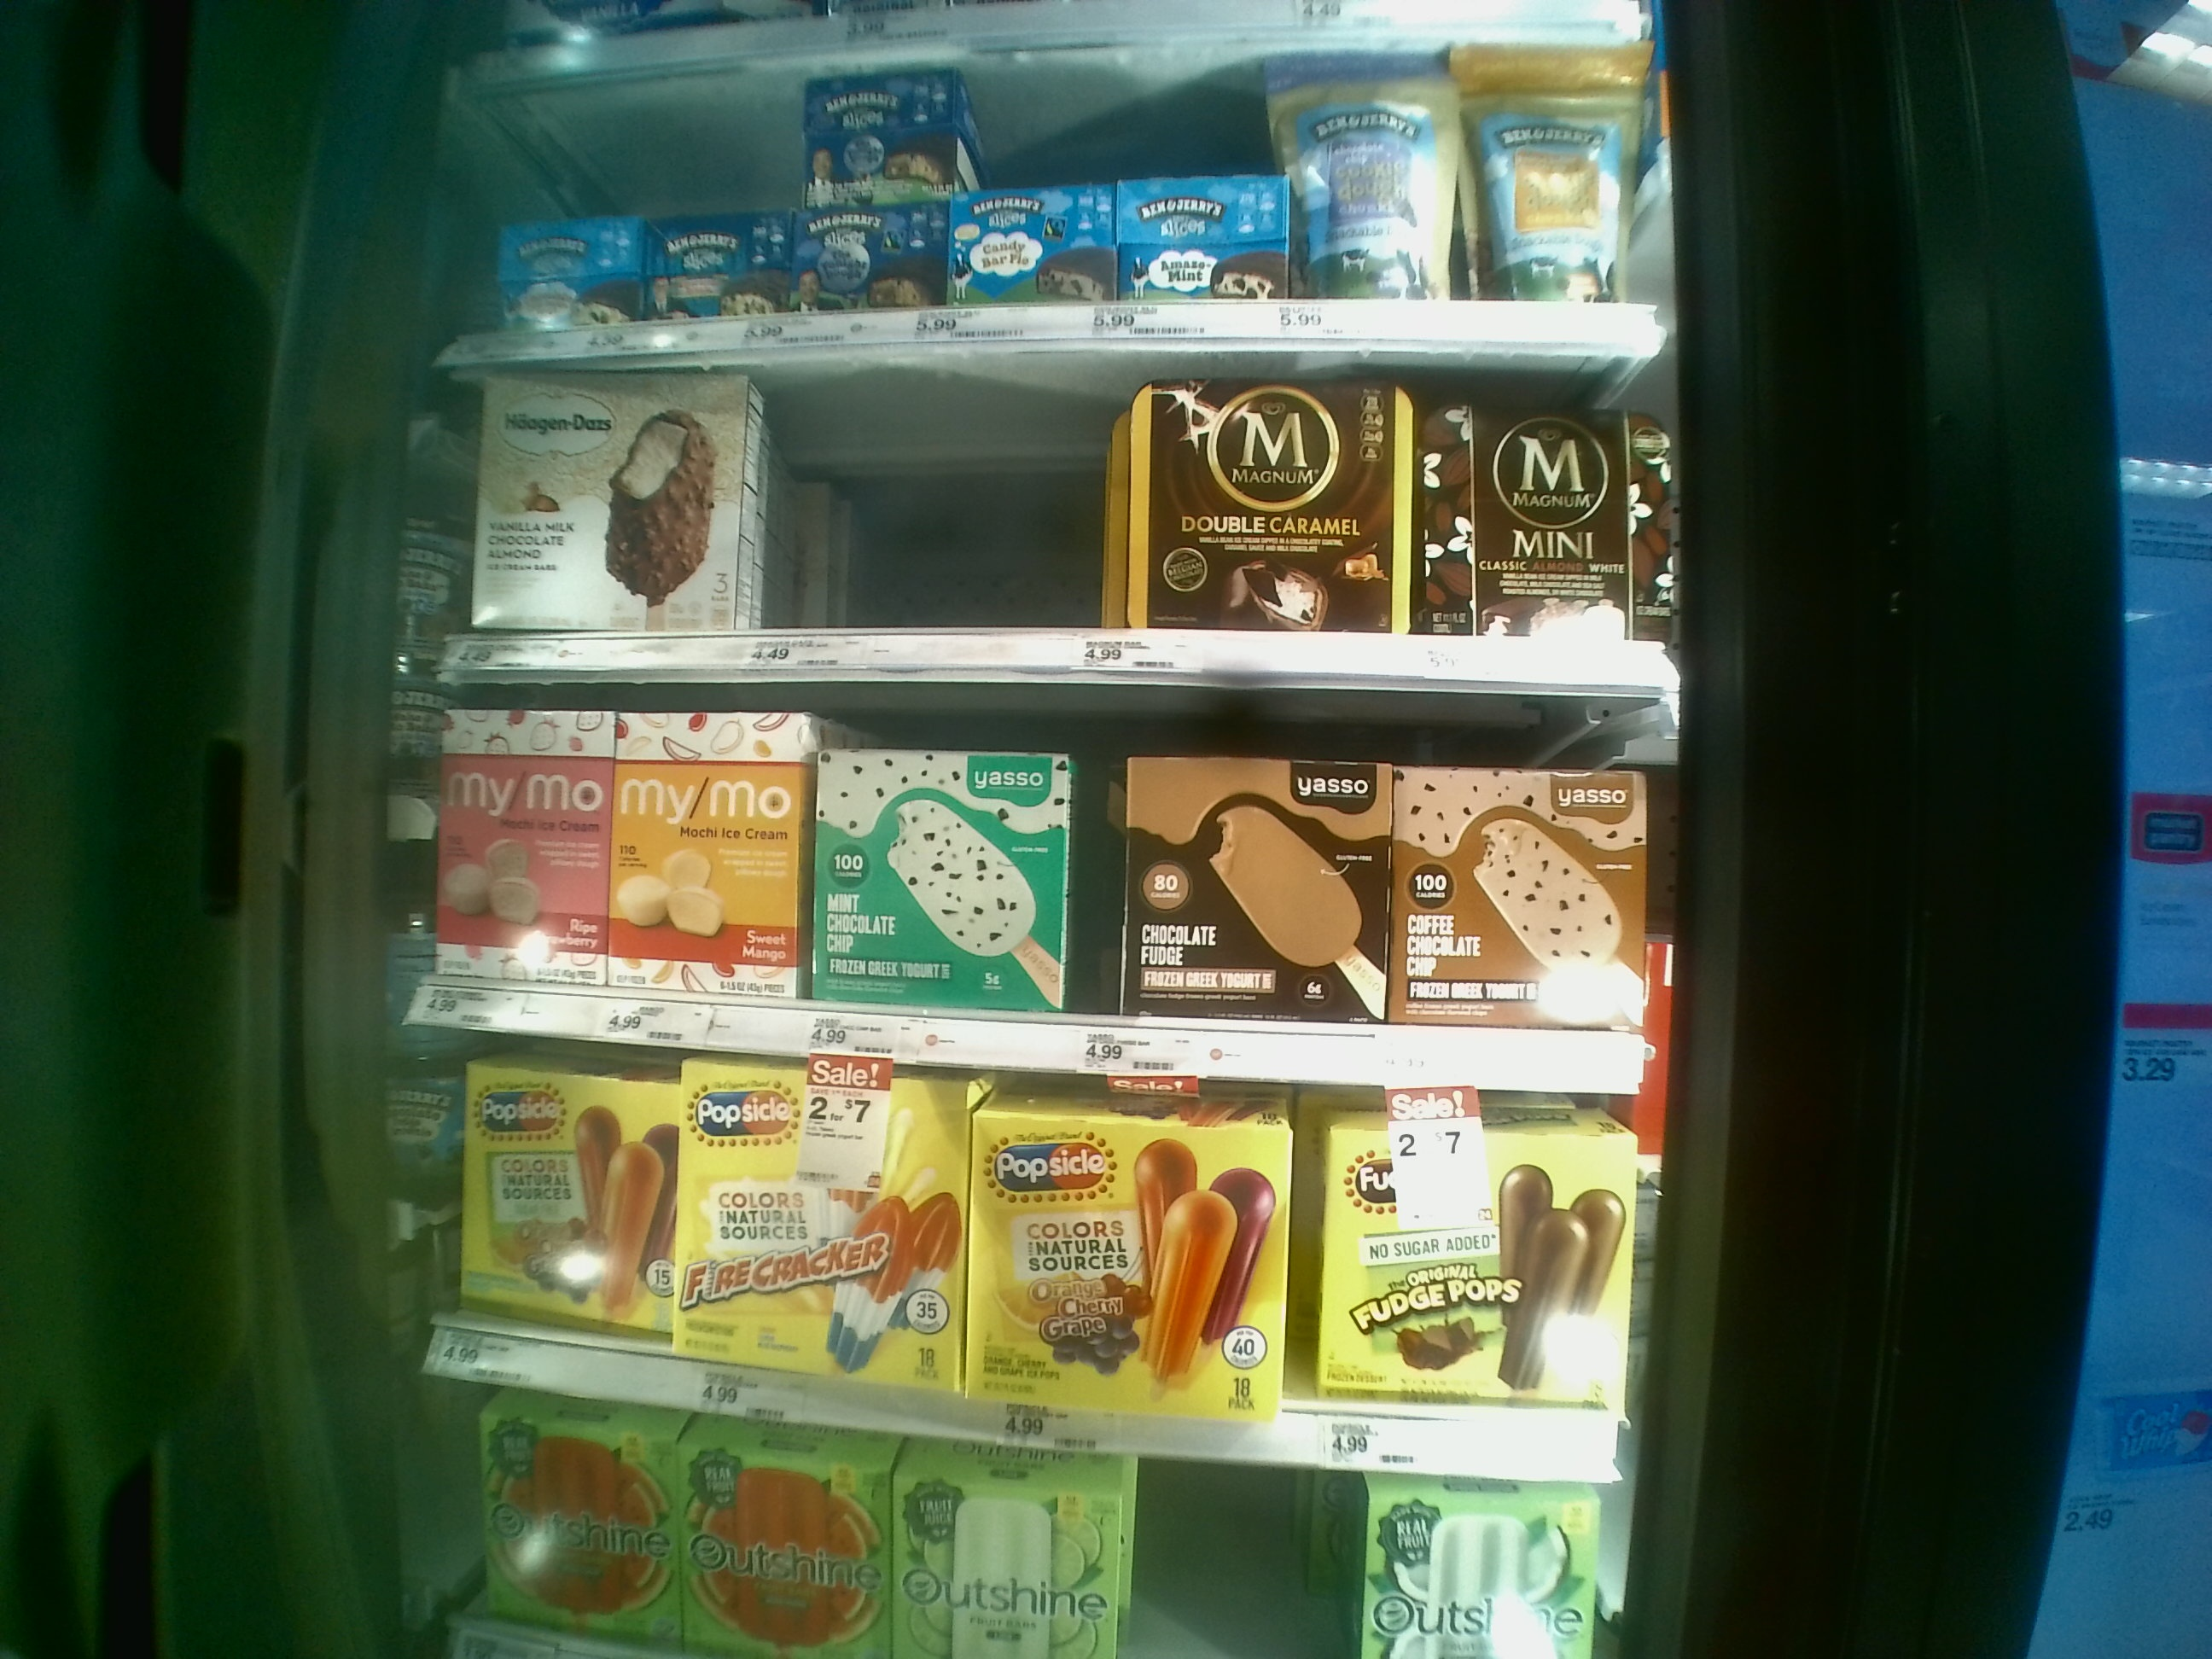ice-cream-shelf: (427, 681, 1663, 1089), (434, 368, 1681, 687)
